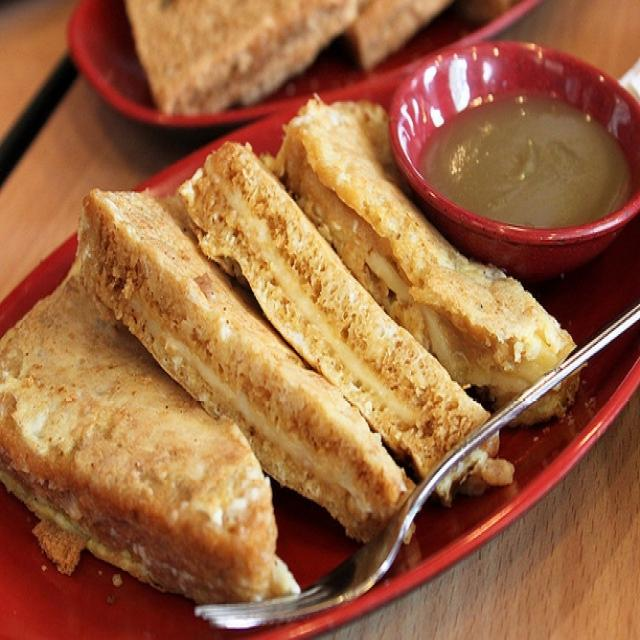面包点心: (13, 27, 610, 610)
